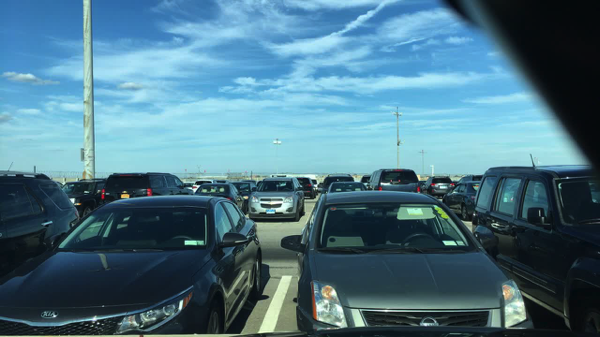car: (281, 190, 536, 337), (0, 195, 262, 337), (470, 154, 599, 337), (0, 169, 81, 279), (101, 171, 193, 203), (248, 177, 305, 222), (62, 177, 104, 218), (198, 183, 247, 215), (442, 184, 480, 222), (371, 168, 419, 195), (322, 176, 353, 197), (327, 181, 365, 196), (425, 178, 455, 197), (296, 177, 316, 200), (229, 181, 257, 197), (193, 179, 217, 194), (457, 175, 482, 184), (362, 174, 372, 191), (183, 182, 195, 193), (245, 179, 259, 188), (309, 179, 318, 191), (418, 180, 427, 189)
